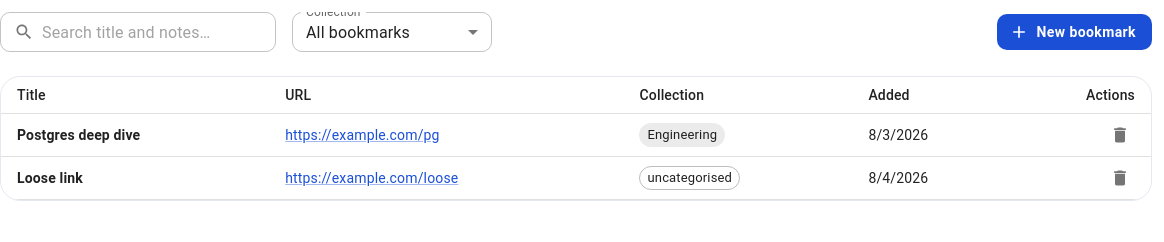
Test: BookmarksPage › collection filter updates ?collectionId= and narrows the table
The width and height of the screenshot is (1164, 242).
Expected: the text "Postgres deep dive" is shown, [1, 114, 269, 156]
Click the dropdown labelled "All bookmarks".
click(358, 32)  # box [306, 22, 410, 42]
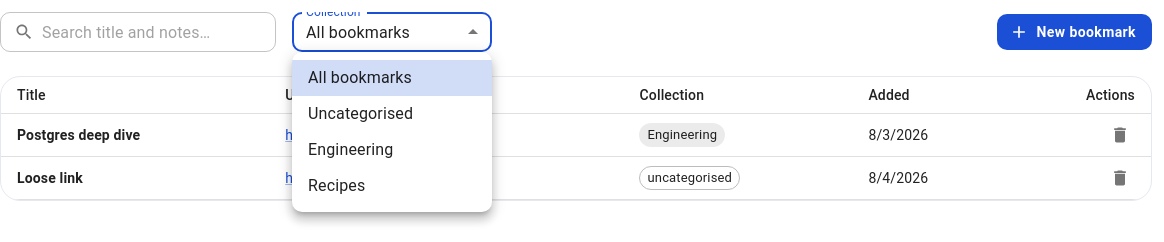
Click the option "Engineering".
click(351, 150)  # box [308, 140, 393, 159]
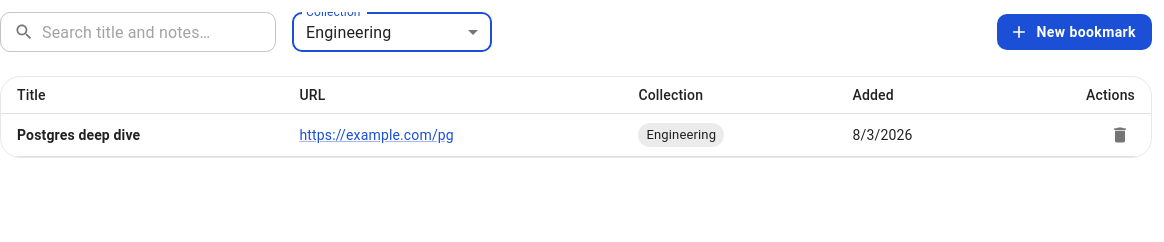
Expected: the text "Postgres deep dive" is shown, [1, 114, 284, 156]
Result: the text "Loose link" is gone
